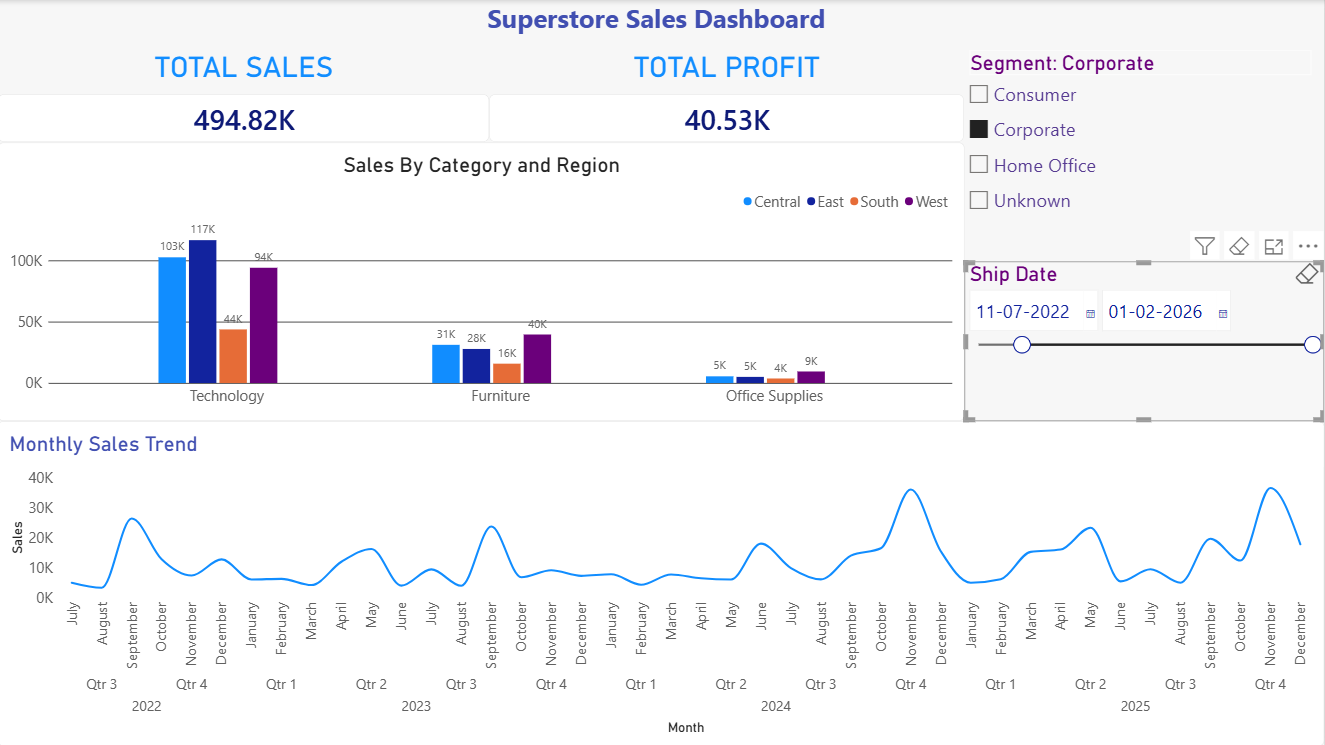

Layout of this report page (visuals, bound fields, positions):
{"tool":"powerbi","page":{"name":"Page 3","canvas":[1920,1080],"ordinal":2},"visuals":[{"type":"clusteredColumnChart","title":"Sales By Category and Region","fields":{"Category":["superstore_cleaned.Category"],"Series":["superstore_cleaned.Region"],"Y":["Sum(superstore_cleaned.Sales)"]},"box":[0,206.3,1398.9,403.6],"z":0},{"type":"slicer","fields":{"Values":["superstore_cleaned.Segment"]},"box":[1398.9,72.4,510.3,267.8],"z":1000},{"type":"slicer","fields":{"Values":["superstore_cleaned.Ship Date"]},"box":[1398.9,378.2,521.2,231.6],"z":2000},{"type":"cardVisual","title":"TOTAL PROFIT","fields":{"Data":["Sum(superstore_cleaned.Profit)"]},"box":[711.2,72.4,687.7,133.9],"z":4000},{"type":"cardVisual","title":"TOTAL SALES","fields":{"Data":["Sum(superstore_cleaned.Sales)"]},"box":[0,72.4,711.2,133.9],"z":5000},{"type":"lineChart","title":"Monthly Sales Trend","fields":{"Category":["superstore_cleaned.Order Date.Variation.Date Hierarchy.Year","superstore_cleaned.Order Date.Variation.Date Hierarchy.Quarter","superstore_cleaned.Order Date.Variation.Date Hierarchy.Month","superstore_cleaned.Order Date.Variation.Date Hierarchy.Day"],"Y":["Sum(superstore_cleaned.Sales)"]},"box":[0,609.9,1920.1,470.5],"z":5001},{"type":"textbox","box":[100,100,300,300],"z":5002},{"type":"textbox","box":[99.5,99.5,1455,39.8],"z":5003},{"type":"textbox","box":[0,0,1905.6,72.4],"z":5004}]}

Visuals, with their boxes in screenshot pixels (x1, y1, x2, y2), scaled from the page's 1920x1080 canvas onto the 1325x745 screenshot:
"Sales By Category and Region" clusteredColumnChart: BBox(0, 142, 965, 421)
slicer - superstore_cleaned.Segment: BBox(965, 50, 1318, 235)
slicer - superstore_cleaned.Ship Date: BBox(965, 261, 1324, 421)
"TOTAL PROFIT" cardVisual: BBox(491, 50, 965, 142)
"TOTAL SALES" cardVisual: BBox(0, 50, 491, 142)
"Monthly Sales Trend" lineChart: BBox(0, 421, 1324, 744)
textbox: BBox(69, 69, 276, 276)
textbox: BBox(69, 69, 1073, 96)
textbox: BBox(0, 0, 1315, 50)
